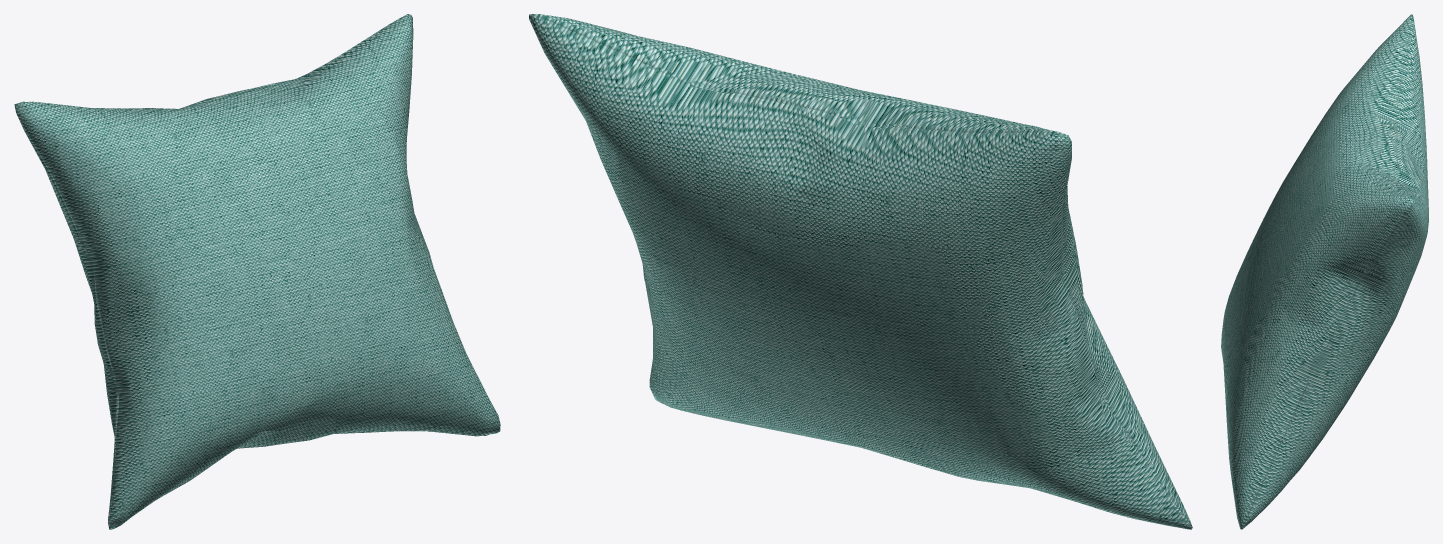
The model's file is Pillow.fbx.
The picture shows the model from 3 angles, left to right: view 1: azimuth 30°, elevation 25°; view 2: azimuth 150°, elevation 25°; view 3: azimuth 270°, elevation 25°; orthographic projection. The views are drawn at different scales.
Visible parts, largest first — view 1: pillow 1; view 2: pillow 1; view 3: pillow 1.
Boxes of the visible parts, x1=… form: pillow 1: x1=14, y1=14, x2=500, y2=529; pillow 1: x1=529, y1=14, x2=1192, y2=529; pillow 1: x1=1221, y1=14, x2=1428, y2=529.
Size of the model in its own units: 42.27 by 36.44 by 20.39.
1 material, 1 textured.
